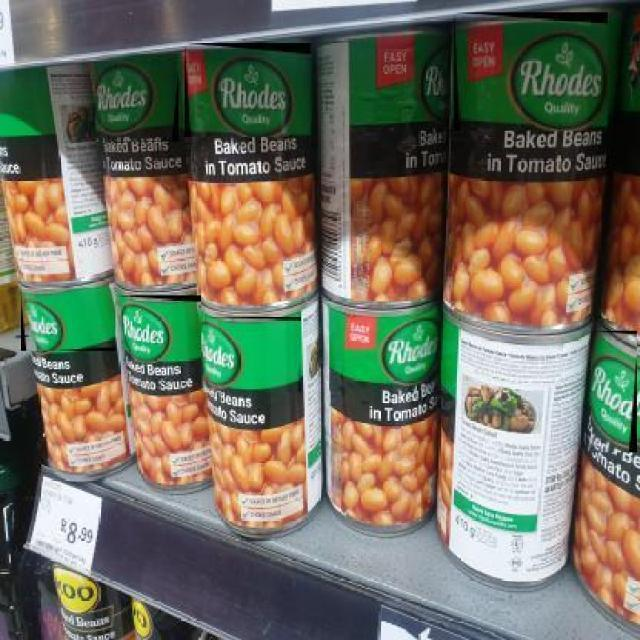Beans: (454, 13, 610, 133), (185, 43, 312, 138), (328, 313, 446, 393), (200, 317, 302, 394), (95, 54, 180, 143), (20, 288, 117, 352), (116, 296, 202, 367), (591, 331, 638, 454)
